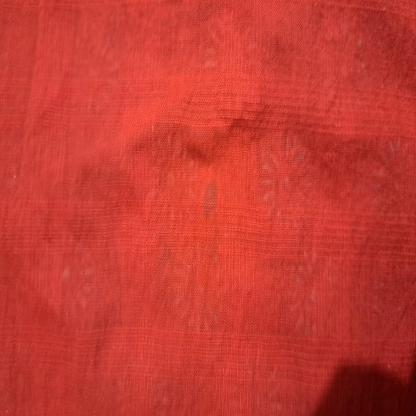spot: (201, 170, 223, 223)
